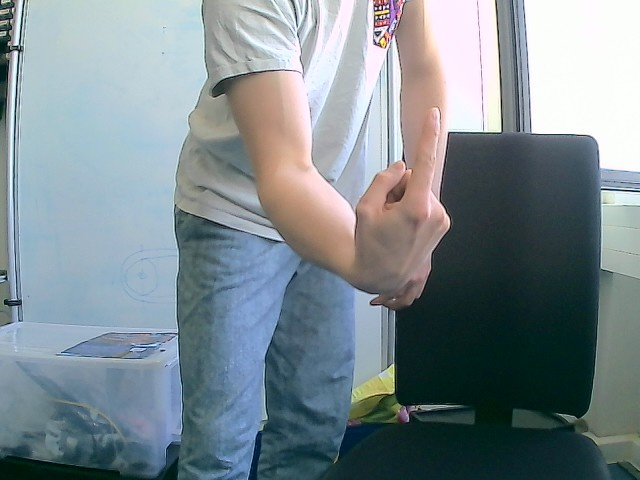up: (351, 106, 452, 295)
